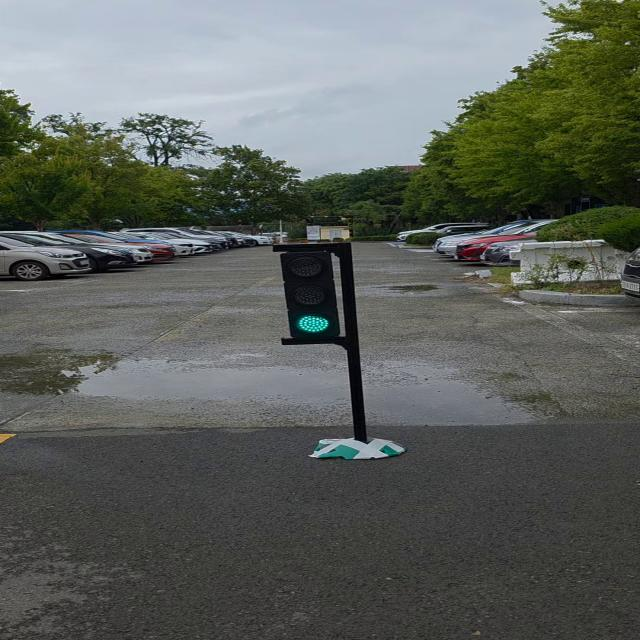green: (280, 245, 356, 341)
